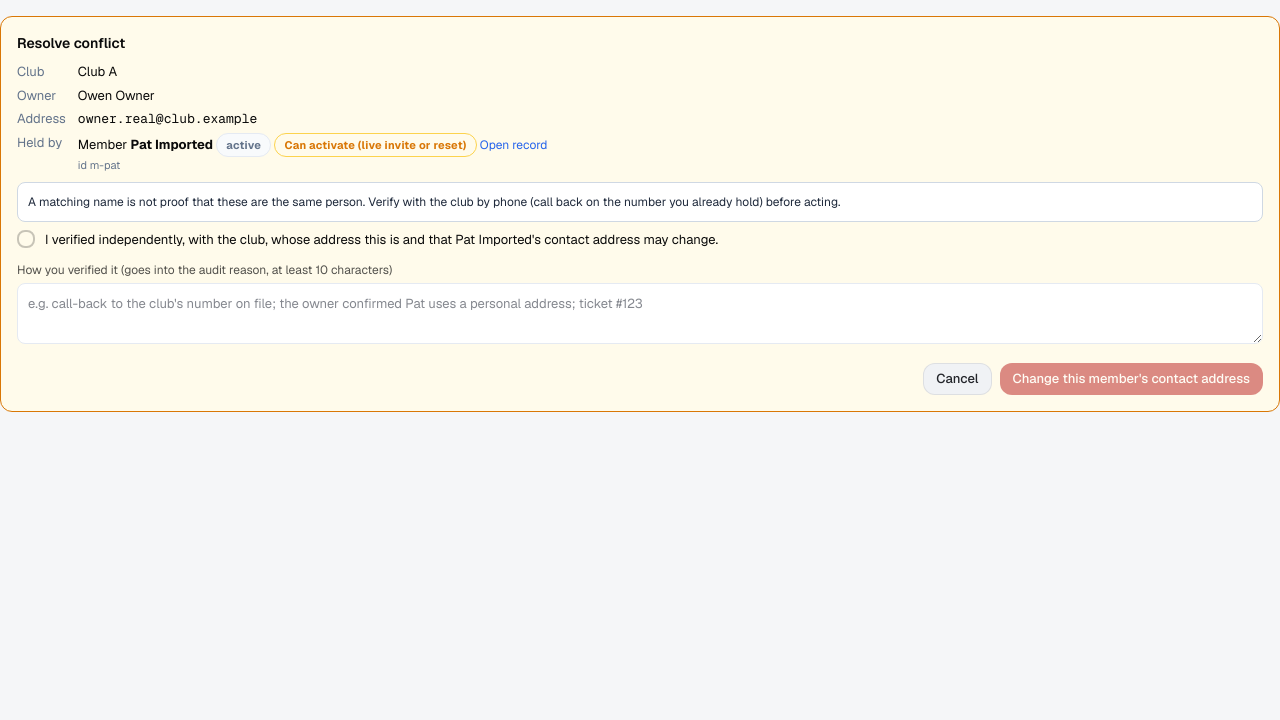
it: ConflictPanel › re-check finds the address still held: blocked, no owner step offered
Click the checkbox. click: (26, 238)
box: [17, 230, 35, 248]
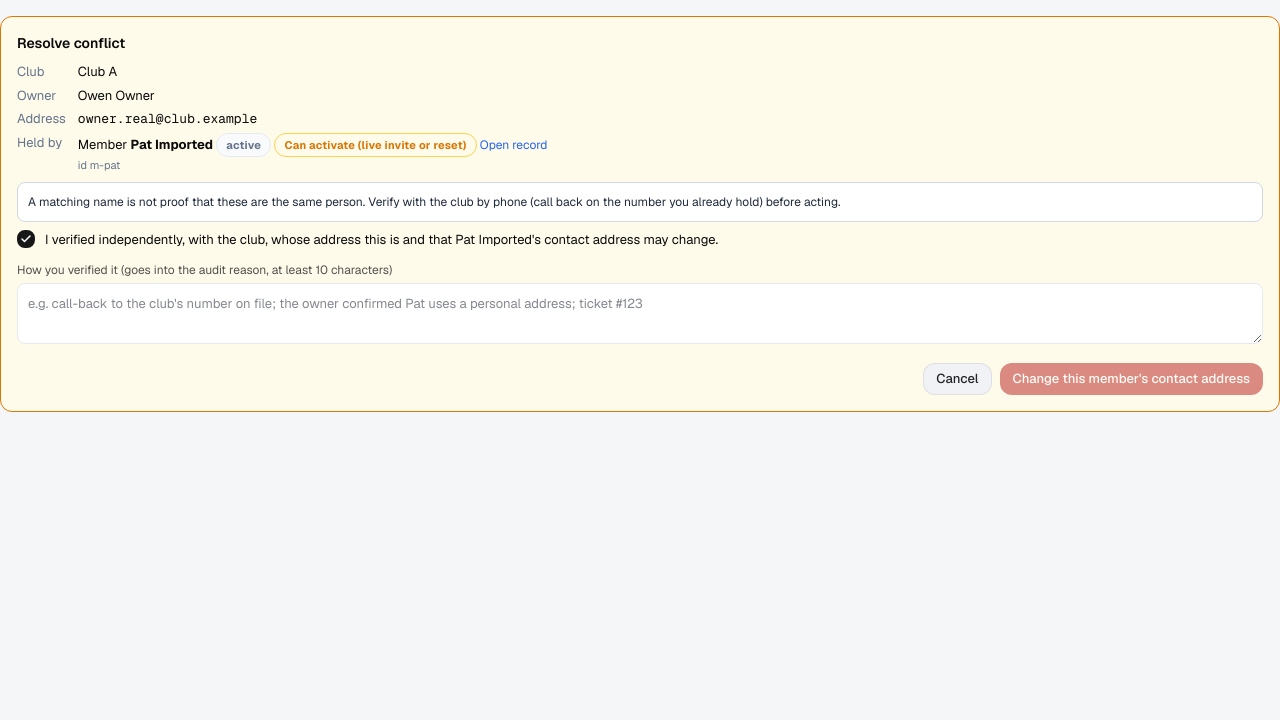
Replace the text in the text box labelled "How you verified it" with "call-back to the club number on file, ticket 41". click: (640, 314)
box: [17, 283, 1263, 344]
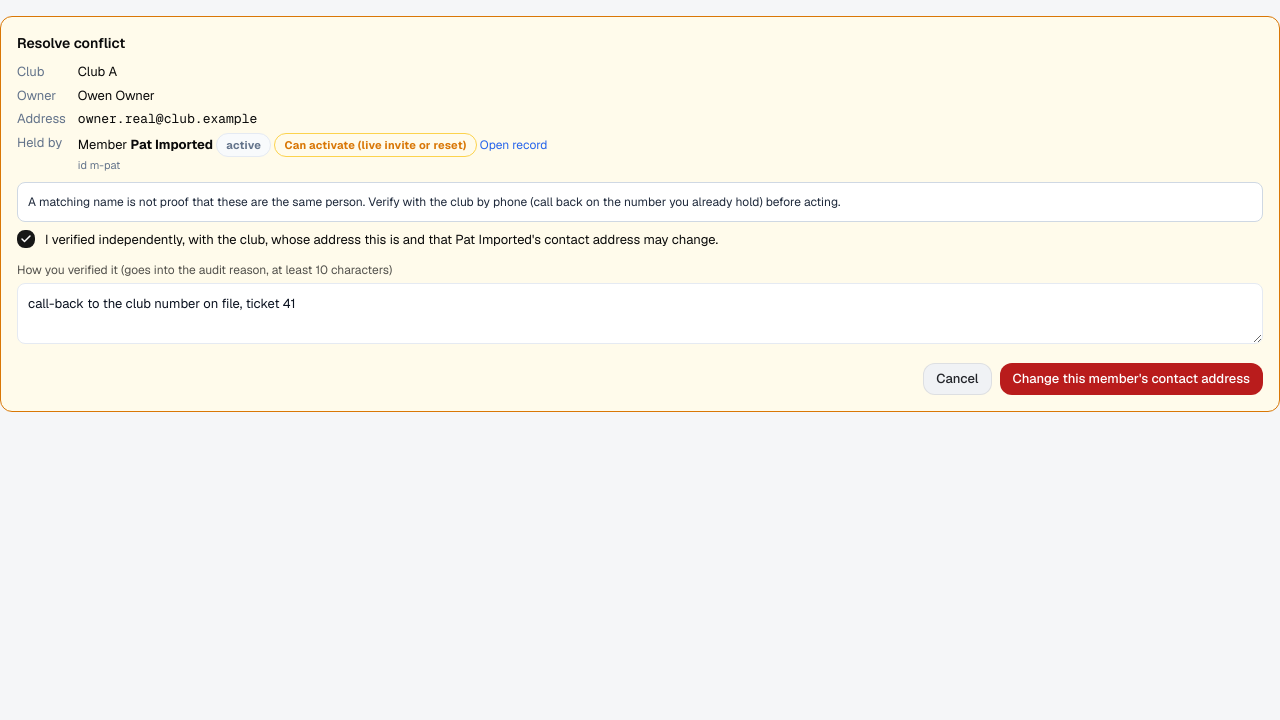
Click the button "Change this member's contact address". click: (1131, 379)
box: [1000, 363, 1263, 395]
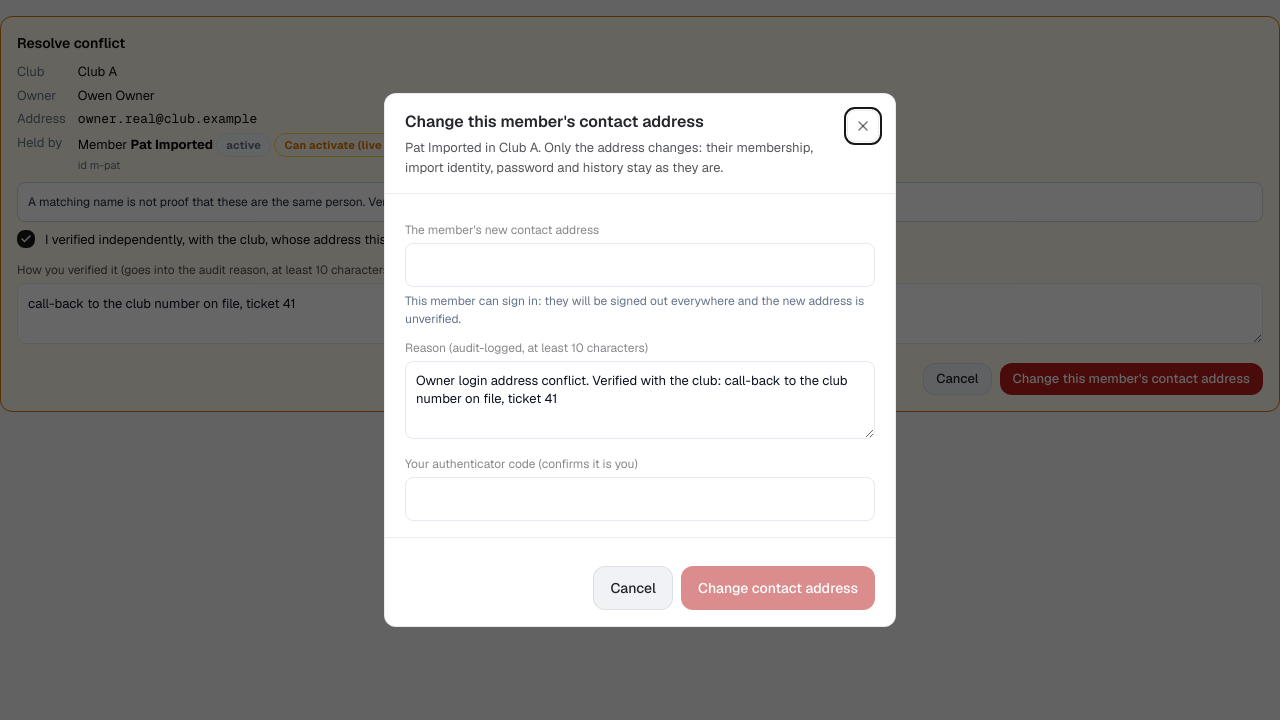
Type "pat.personal@club.example" into the field labelled "The member's new contact address". click: (640, 265)
box: [405, 243, 875, 287]
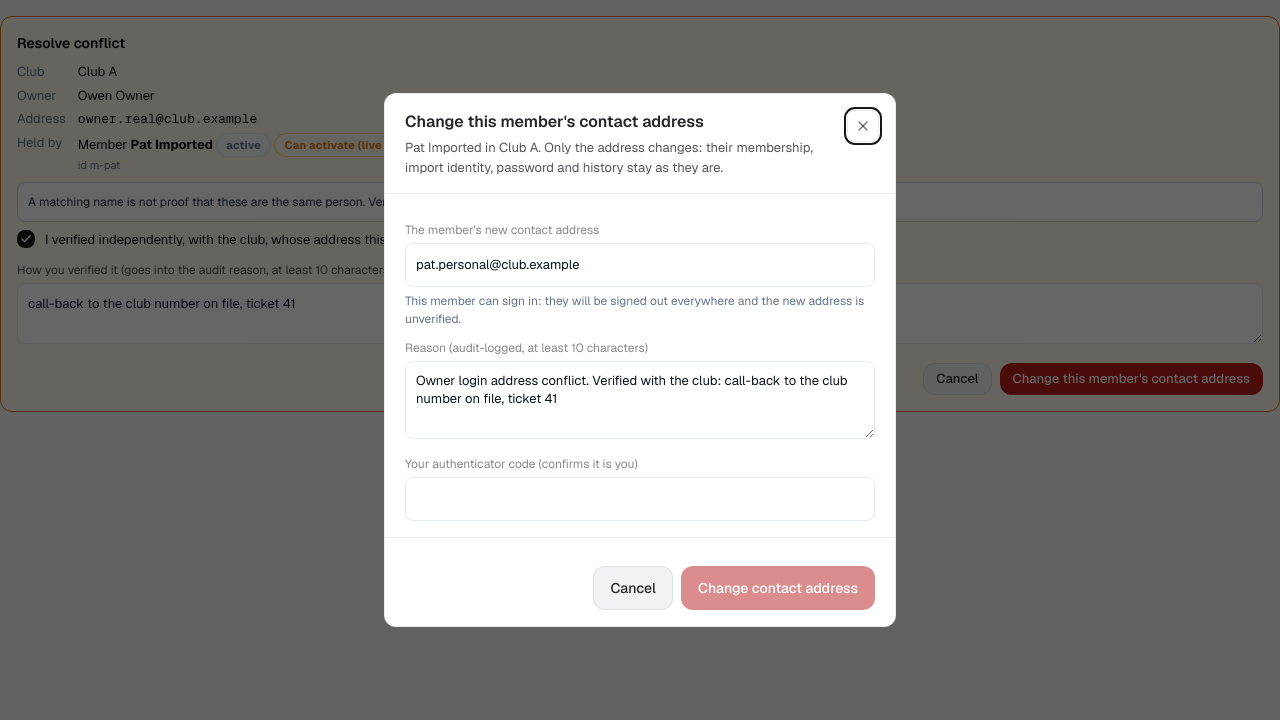
Type "123456" into the field labelled "Your authenticator code (confirms it is you)". click: (640, 499)
box: [405, 477, 875, 521]
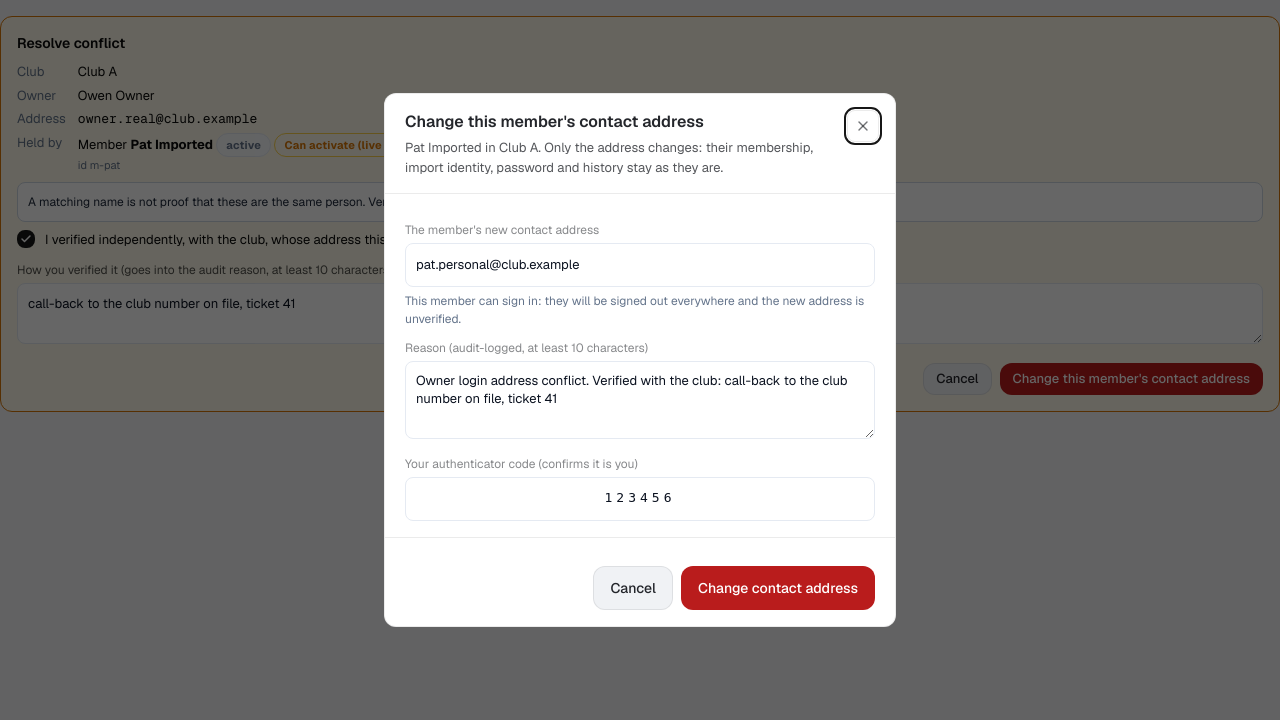
Click the button "Change contact address". click: (778, 588)
box: [681, 566, 875, 610]
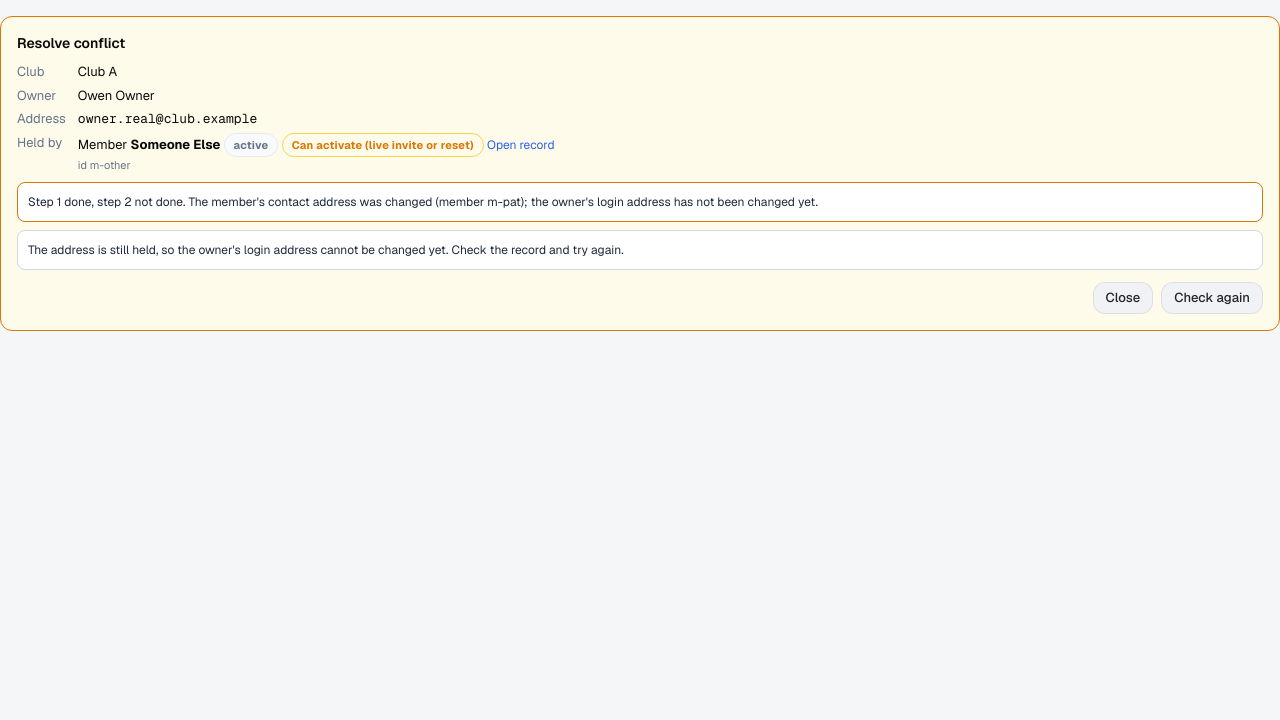
Result: the text "still held" is shown at [28, 242, 624, 258]
